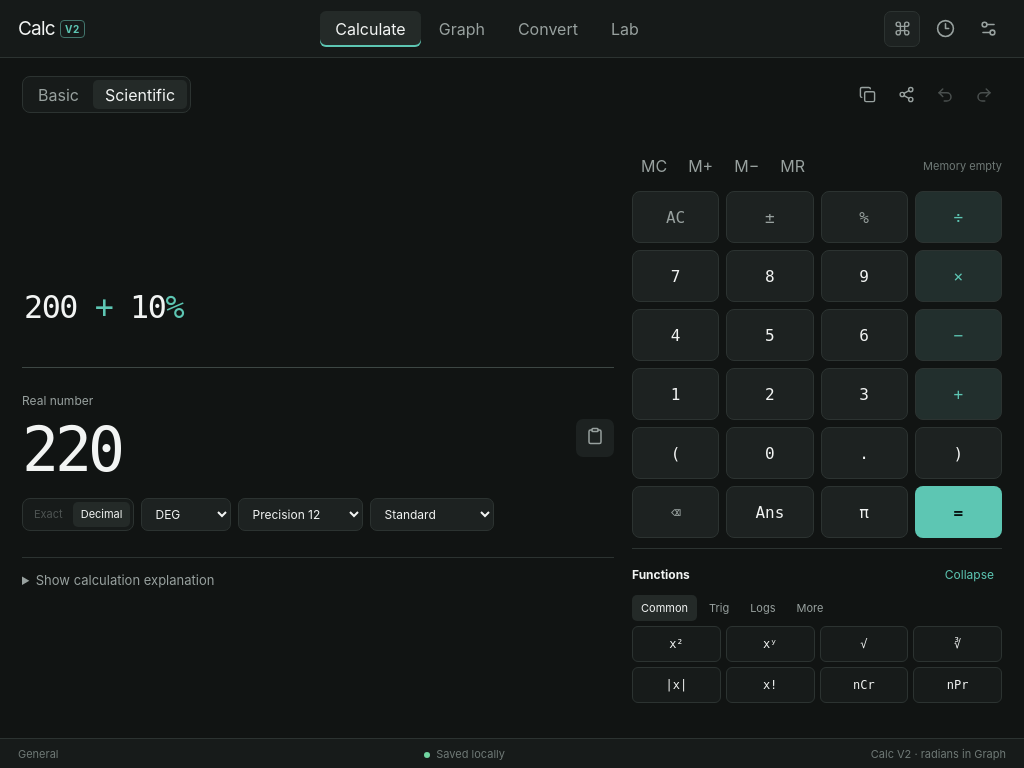
Test: primary application interactions › creates a real workspace
Step 1. Click the button named "Open workspaces and history" → (945,28), box 927,10 -> 963,46
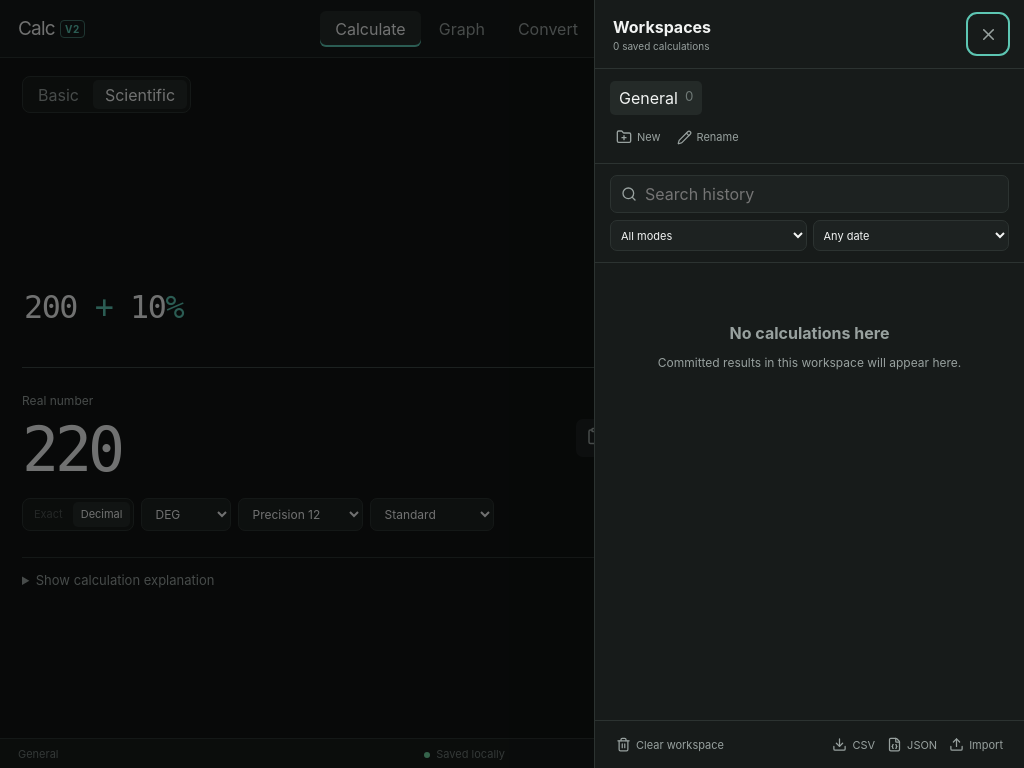
Step 2. Click the button "New" → (638,137), box 610,123 -> 666,151
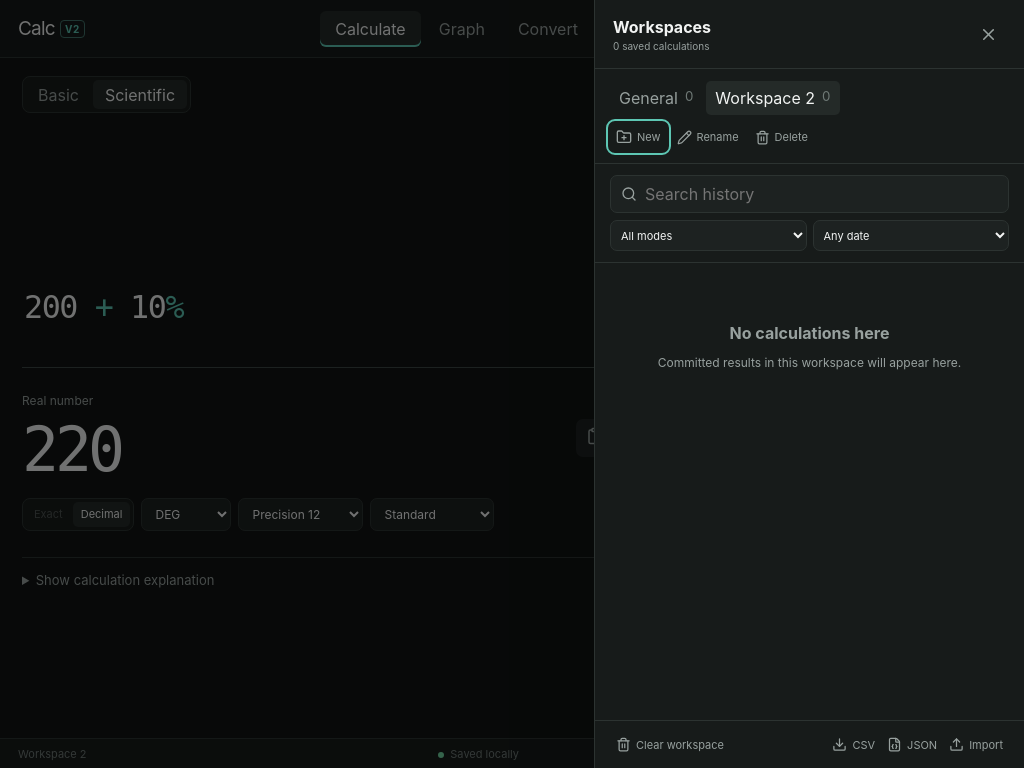
Now the text "Workspace 2" is shown, box 715,88 -> 815,108
